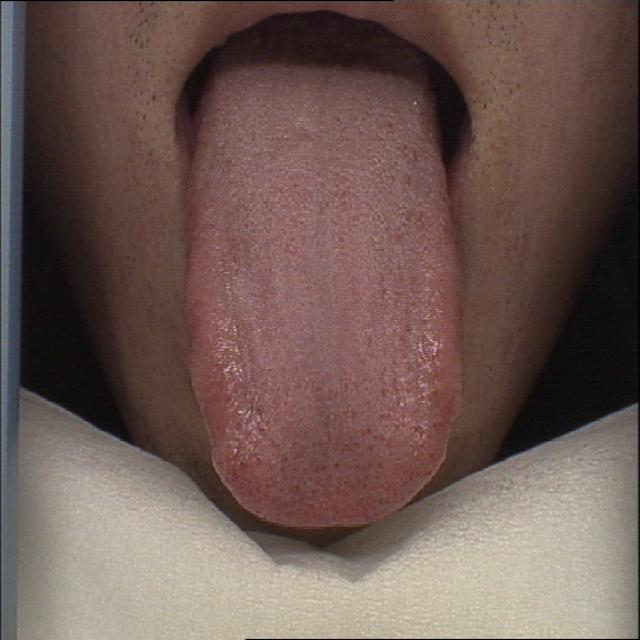tongue: (182, 71, 464, 530)
